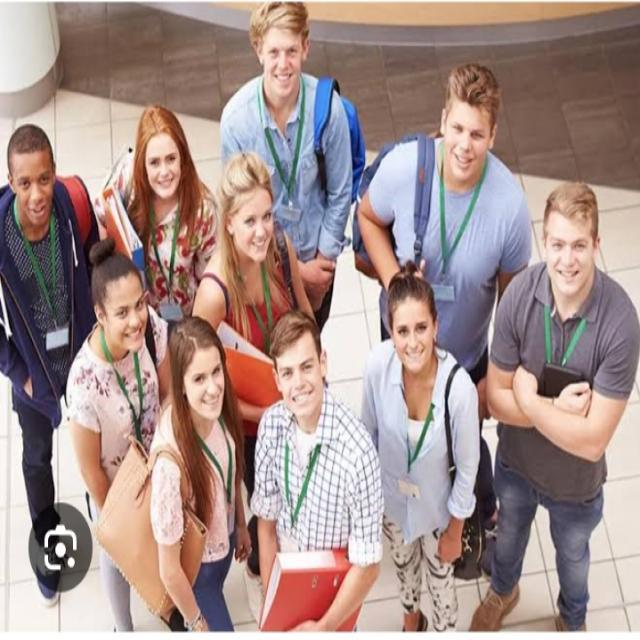id_card: (10, 199, 75, 356), (94, 323, 152, 461), (259, 84, 313, 222), (135, 189, 186, 326), (431, 153, 473, 306), (192, 429, 252, 531), (276, 412, 319, 540), (385, 379, 427, 503), (538, 298, 584, 378)
